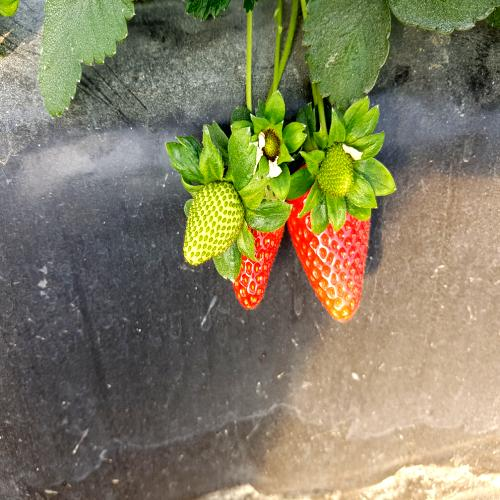ripe: (290, 148, 371, 313), (218, 153, 284, 312)
unripe: (185, 170, 245, 273)
